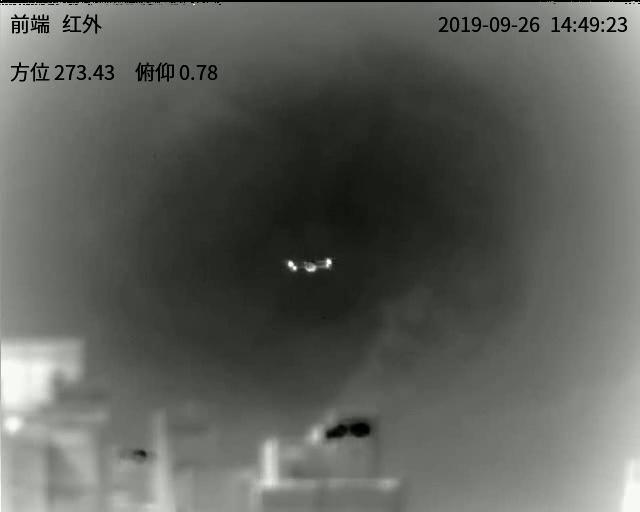DRONE: (286, 256, 333, 273)
